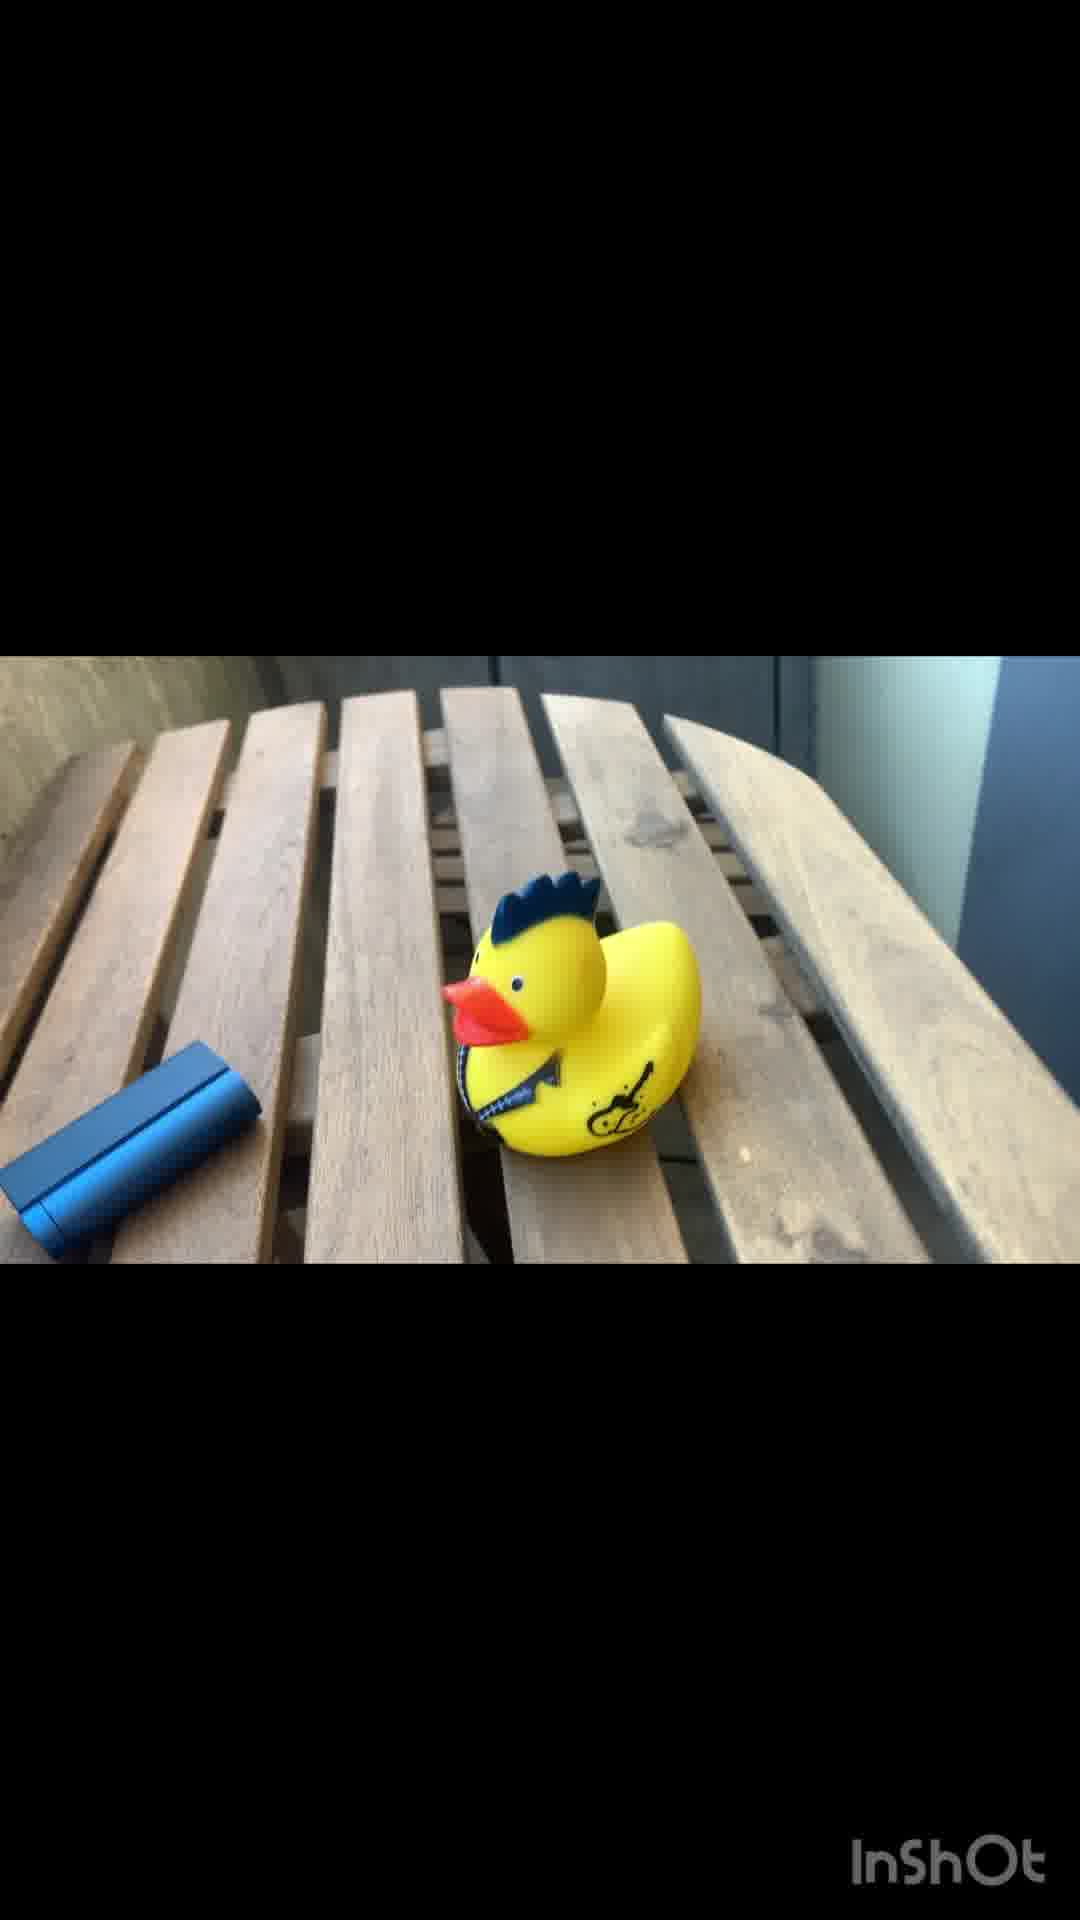duck: (456, 876, 705, 1162)
glo: (1, 1029, 277, 1262)
